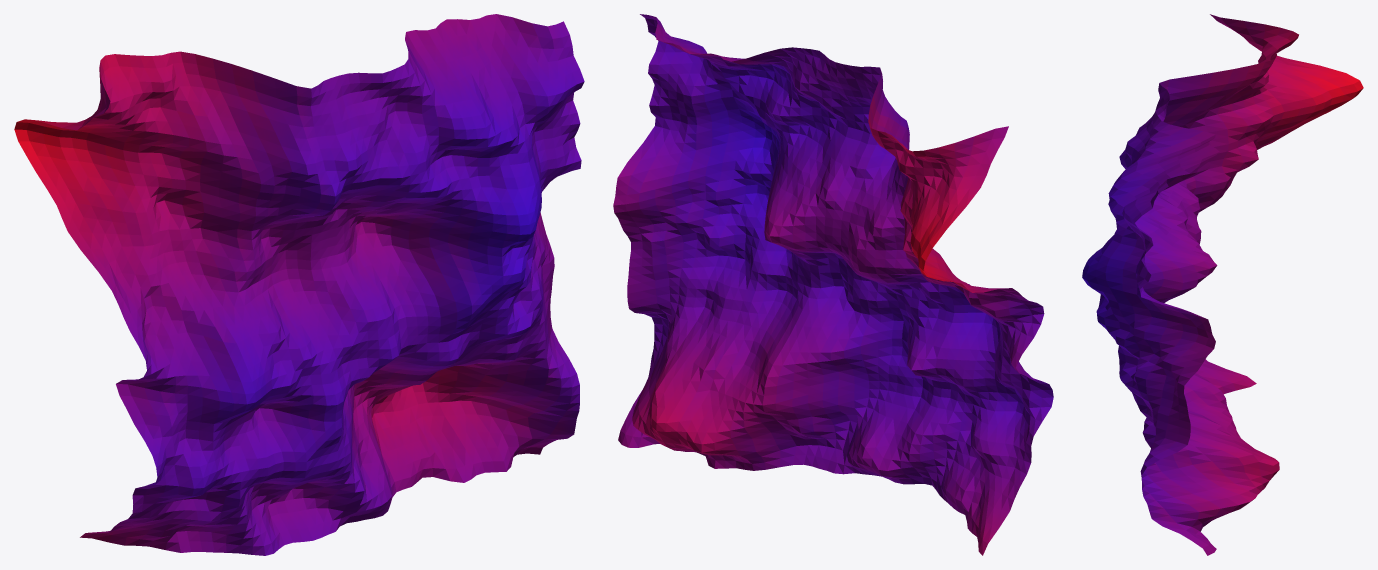
File: colored.obj
3 views of the same model, side by side, from view 1: azimuth 30°, elevation 25°; view 2: azimuth 150°, elevation 25°; view 3: azimuth 270°, elevation 25° (orthographic). The views are drawn at different scales.
Bounding box in the file's own units: 50 × 50 × 34.54.
Materials: 1 (1 with a texture image).
